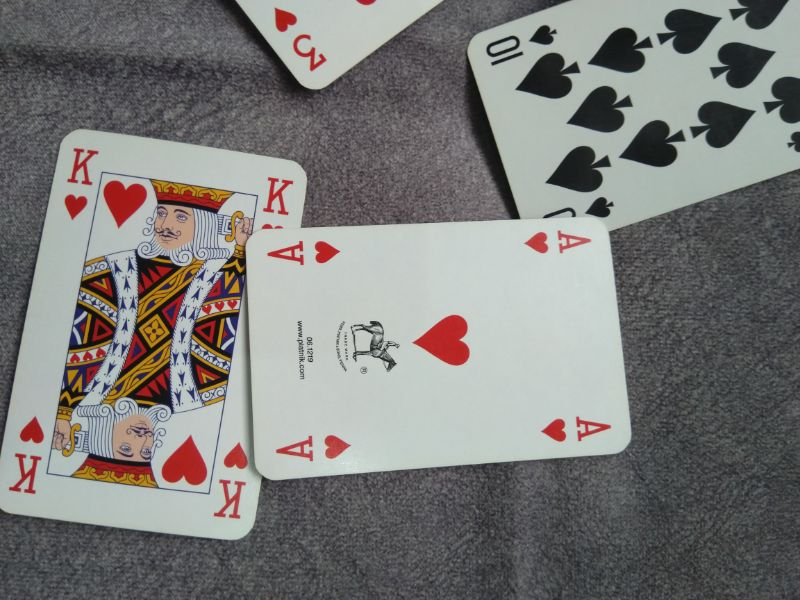3h: (270, 3, 330, 75)
Ah: (271, 430, 365, 467), (533, 408, 615, 448), (262, 236, 351, 269), (521, 225, 596, 258)
Kh: (7, 413, 48, 498), (210, 440, 251, 523), (62, 143, 100, 224)
Ts: (482, 22, 559, 67)
